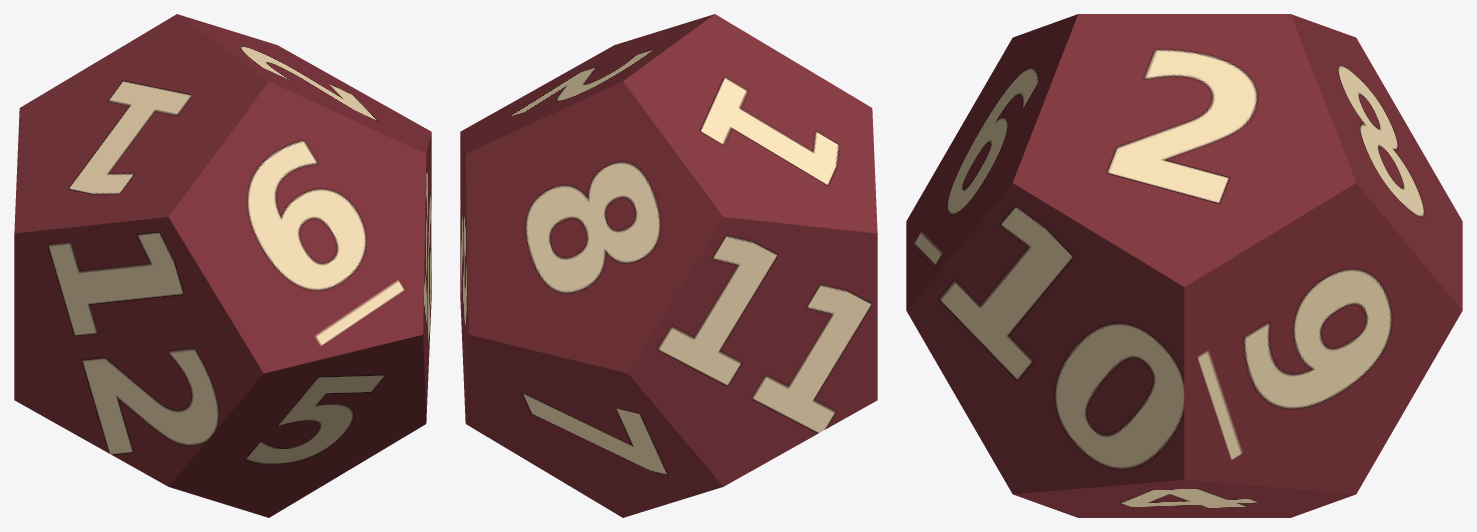
Rendered from carved_in_smoke_d12.glb.
3 views of the same model, side by side, from view 1: azimuth 30°, elevation 25°; view 2: azimuth 150°, elevation 25°; view 3: azimuth 270°, elevation 25° (orthographic). The views are drawn at different scales.
Visible parts, largest first — view 1: world; view 2: world; view 3: world.
Boxes of the visible parts, <box> form: world: <box>14,14,431,517</box>; world: <box>460,14,877,517</box>; world: <box>906,14,1462,517</box>.
Bounding box in the file's own units: 1.87 × 1.87 × 1.87.
1 material, 1 textured.
